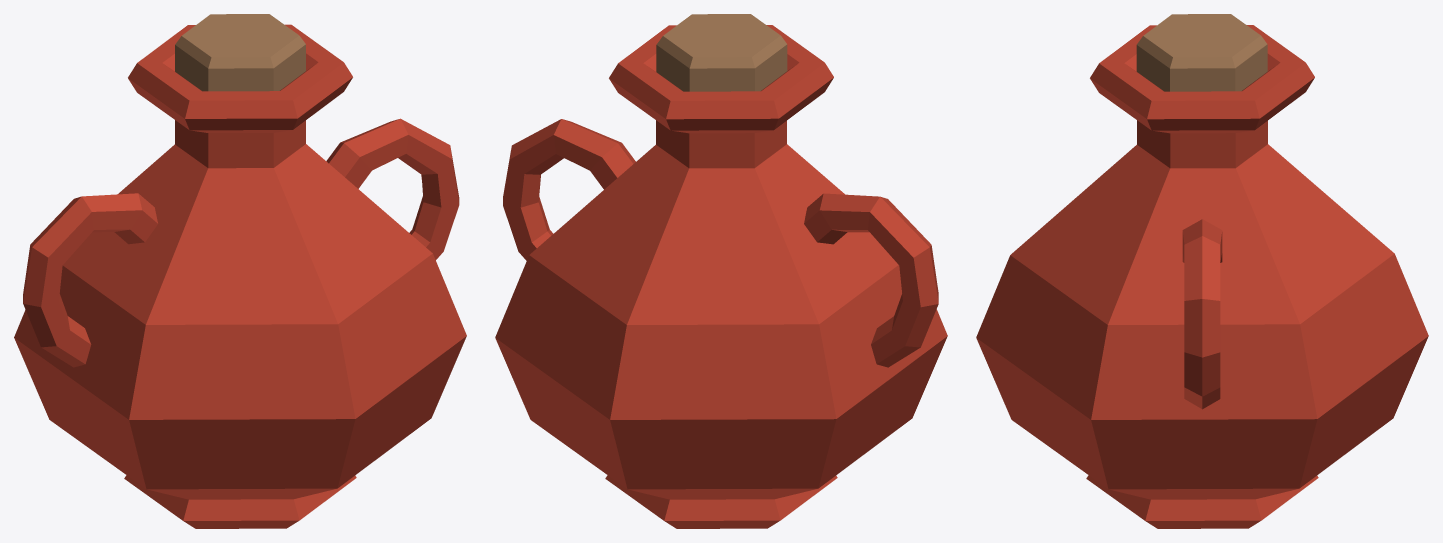
The model's file is Red_Potion_16.fbx.
The picture shows the model from 3 angles, left to right: view 1: azimuth 30°, elevation 25°; view 2: azimuth 150°, elevation 25°; view 3: azimuth 270°, elevation 25°; orthographic projection.
Parts seen in each view (by area): view 1: Red_Potion_16; view 2: Red_Potion_16; view 3: Red_Potion_16.
Part boxes in pixels (x1=…): Red_Potion_16: x1=14, y1=14, x2=466, y2=528; Red_Potion_16: x1=495, y1=14, x2=947, y2=528; Red_Potion_16: x1=976, y1=14, x2=1428, y2=528.
Size of the model in its own units: 22.59 by 22.77 by 20.32.
